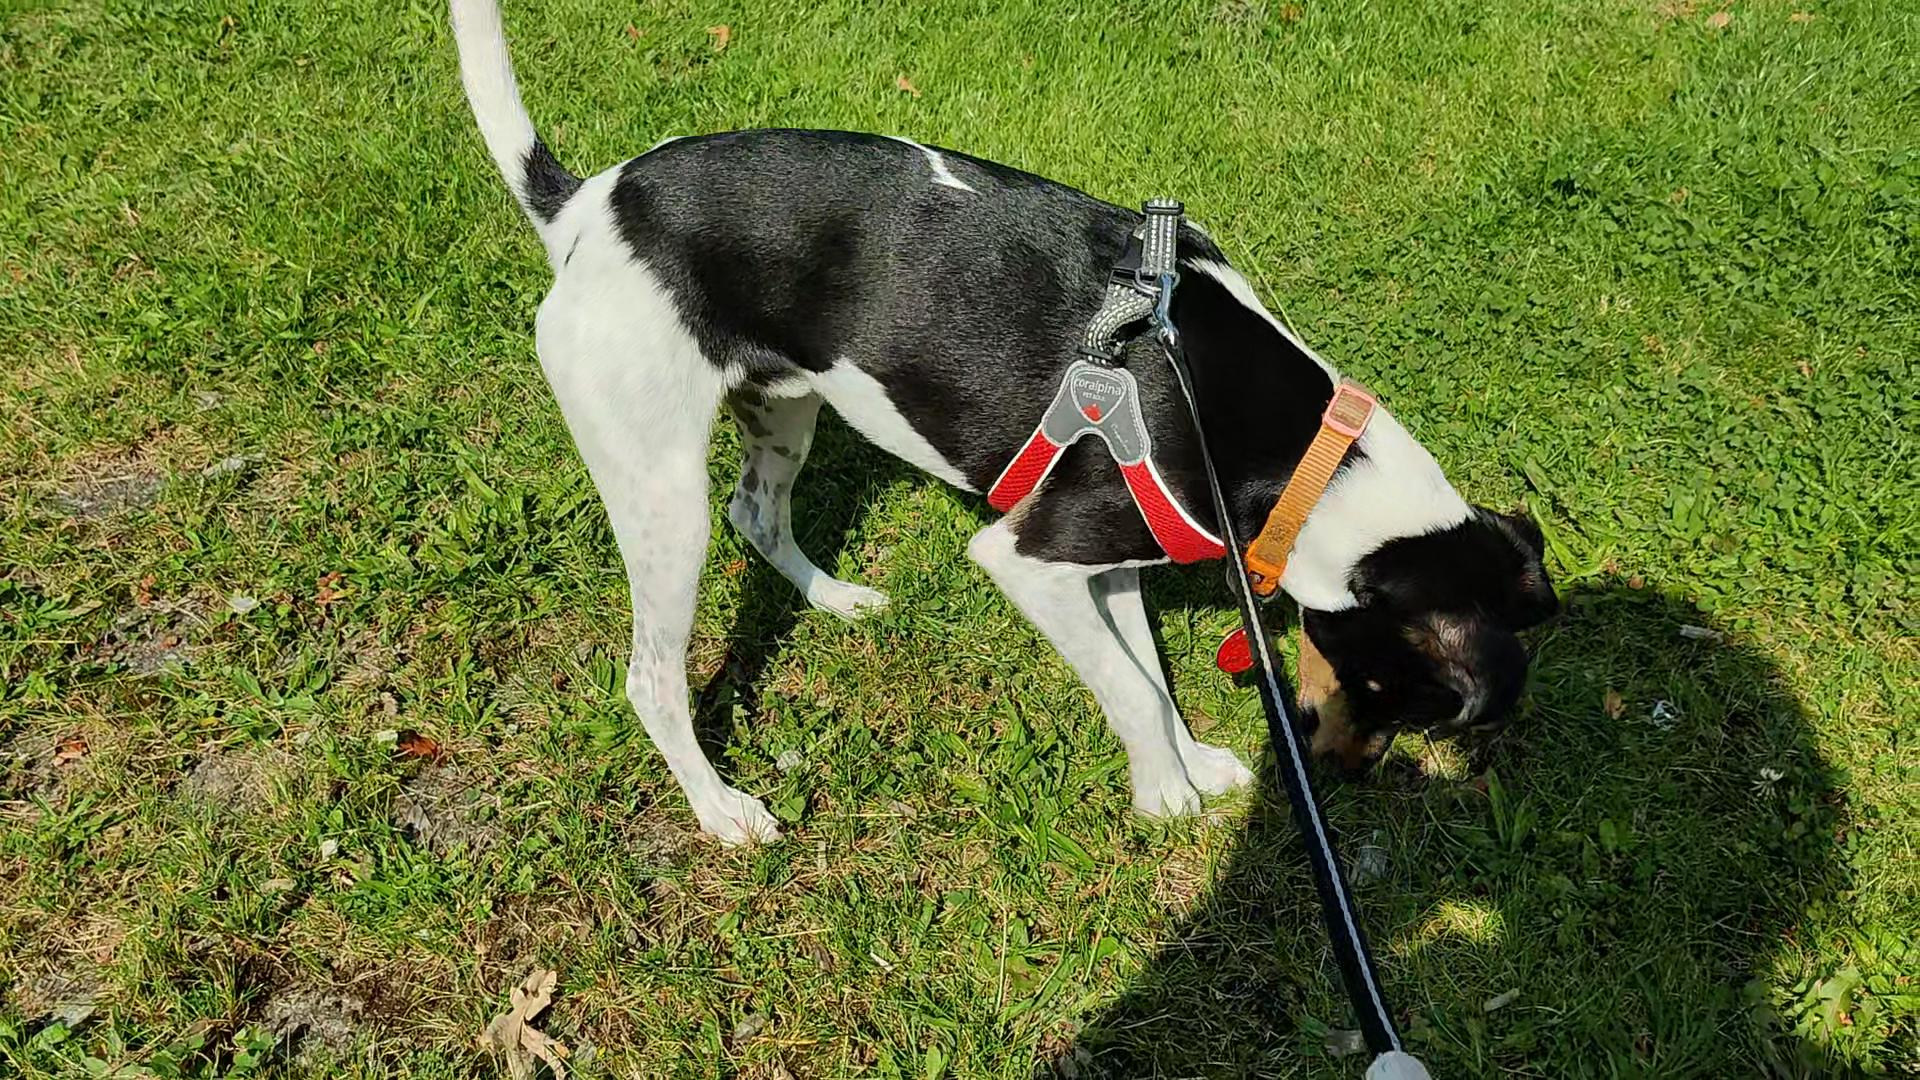Dog: (425, 0, 1580, 855)
